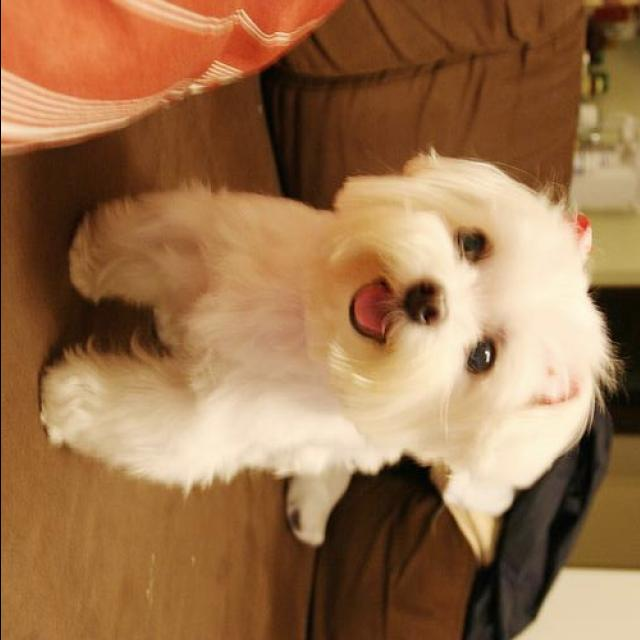maltese_dog: (38, 152, 620, 518)
